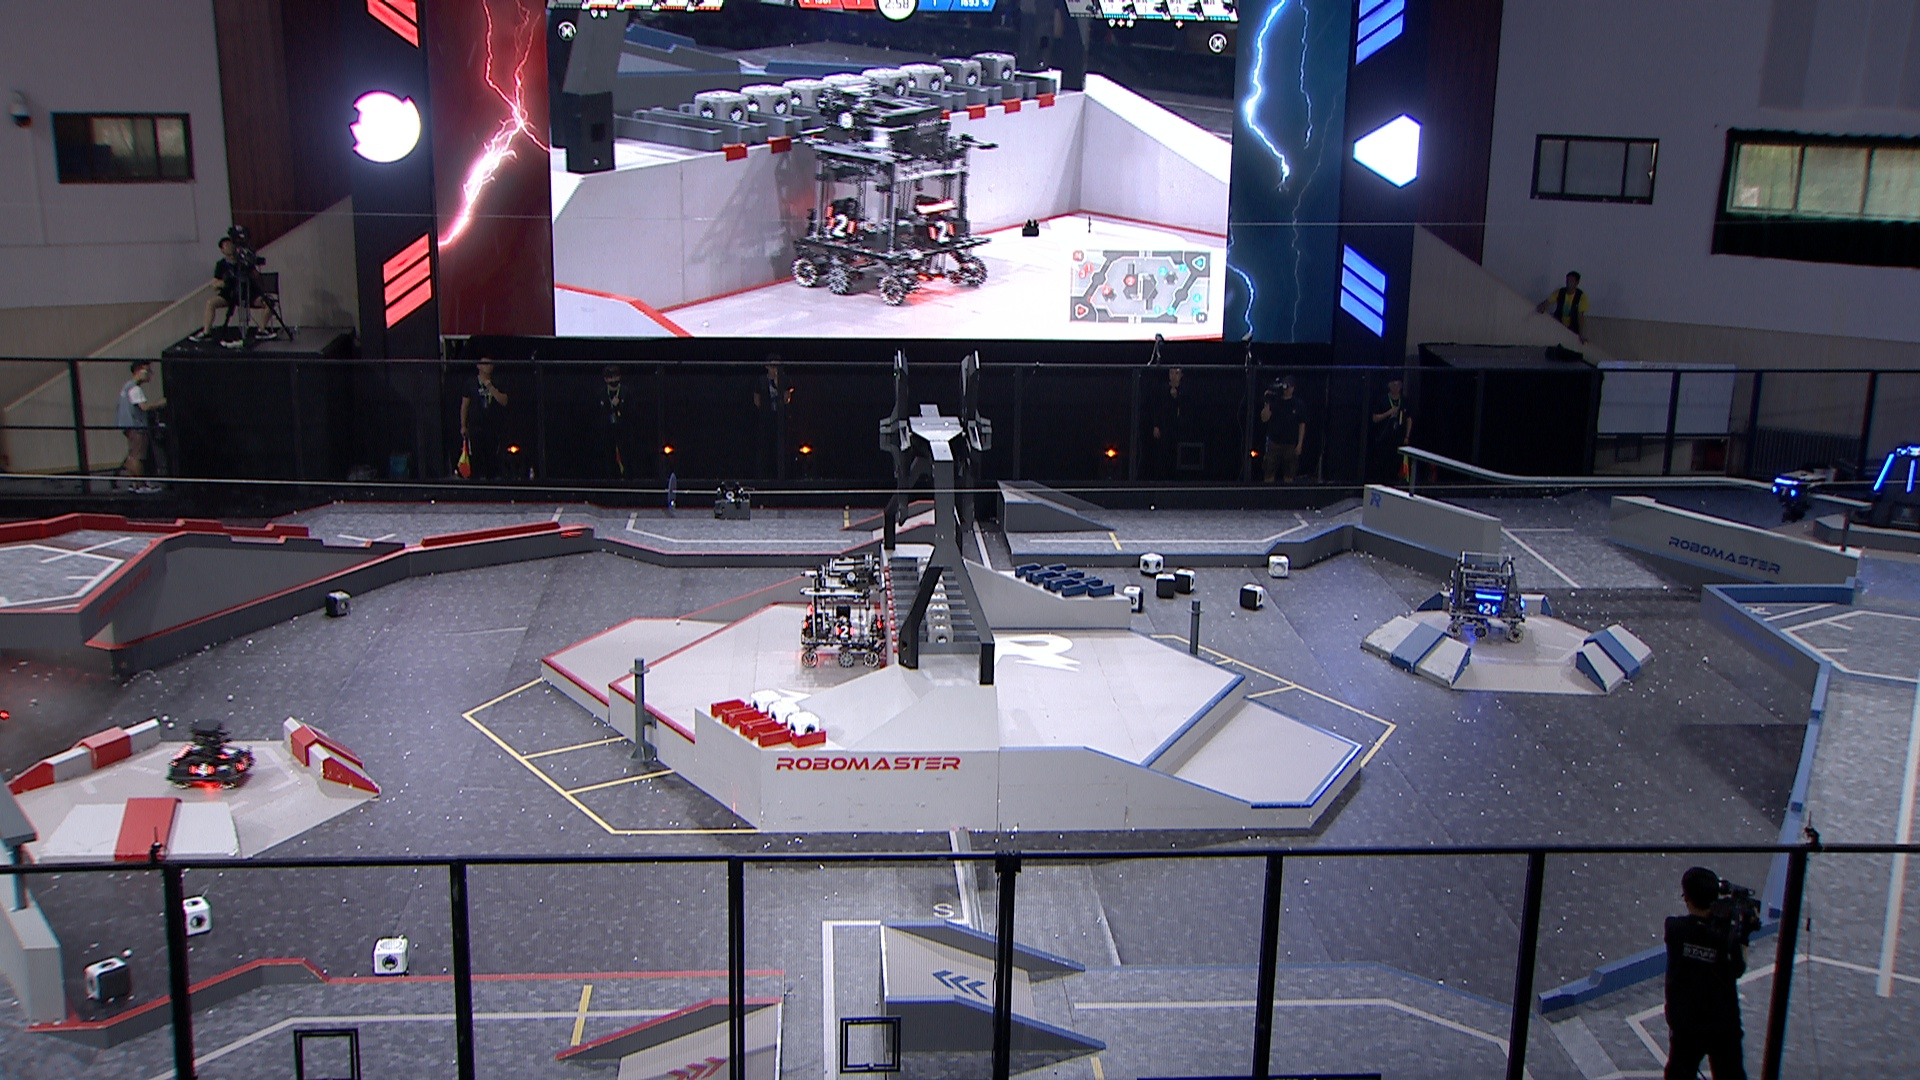armor: (1870, 451, 1898, 491), (215, 744, 244, 761), (189, 761, 216, 778), (1904, 458, 1917, 493), (1476, 600, 1499, 618), (233, 752, 252, 774), (1771, 484, 1797, 498), (833, 624, 856, 640), (1899, 446, 1920, 460)
base: (1844, 442, 1920, 534)
car: (796, 549, 887, 673), (1443, 550, 1528, 642), (167, 717, 257, 794)
ignore: (787, 78, 998, 306)
watcher: (1768, 467, 1825, 524)
